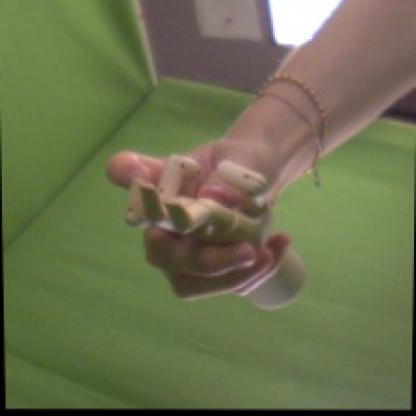Hand: (108, 139, 292, 304)
